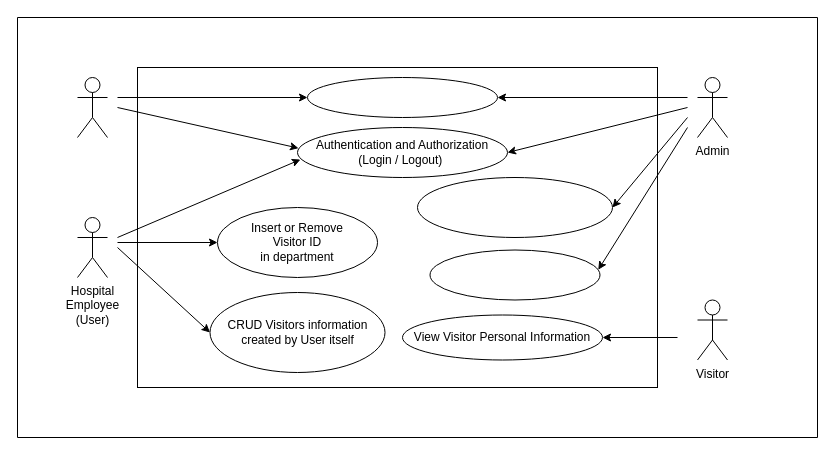
The diagram is 835 pixels wide and 455 high, and some of its shapes have lost their labels. Each missing label, with the centre of its shape:
"Create or Delete Department Details" goes at (514,274).
"CRUD Operation for User, Admin, and Security Role" goes at (514,207).
"Guard (Security)" goes at (92,107).
"View ALL Visitors Information" goes at (402,97).
